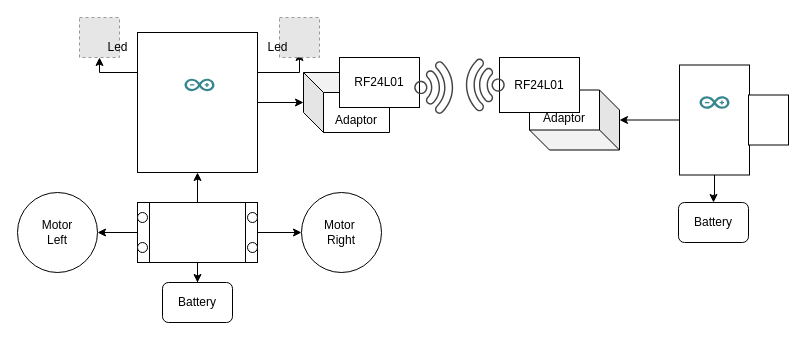
The diagram is 806 pixels wide and 340 high, and some of its shapes have lost their labels. Grey dashed boxes stand in for pictures. Here are the shapes that lost their labels. From the top down, the box of each, then its label:
(136, 32, 258, 172): Arduino Uno
(678, 64, 750, 175): Arduino Nano
(748, 94, 788, 145): Mpu 6050
(136, 202, 258, 262): L298N Motor Driver
